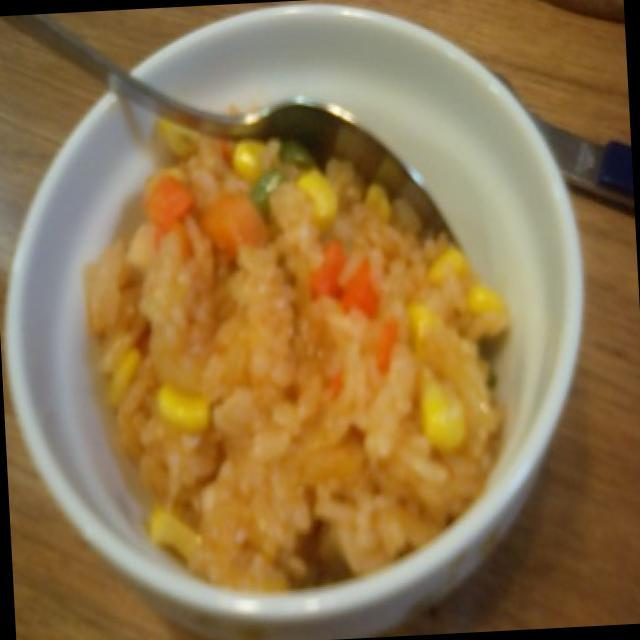Rice: (82, 114, 511, 586)
